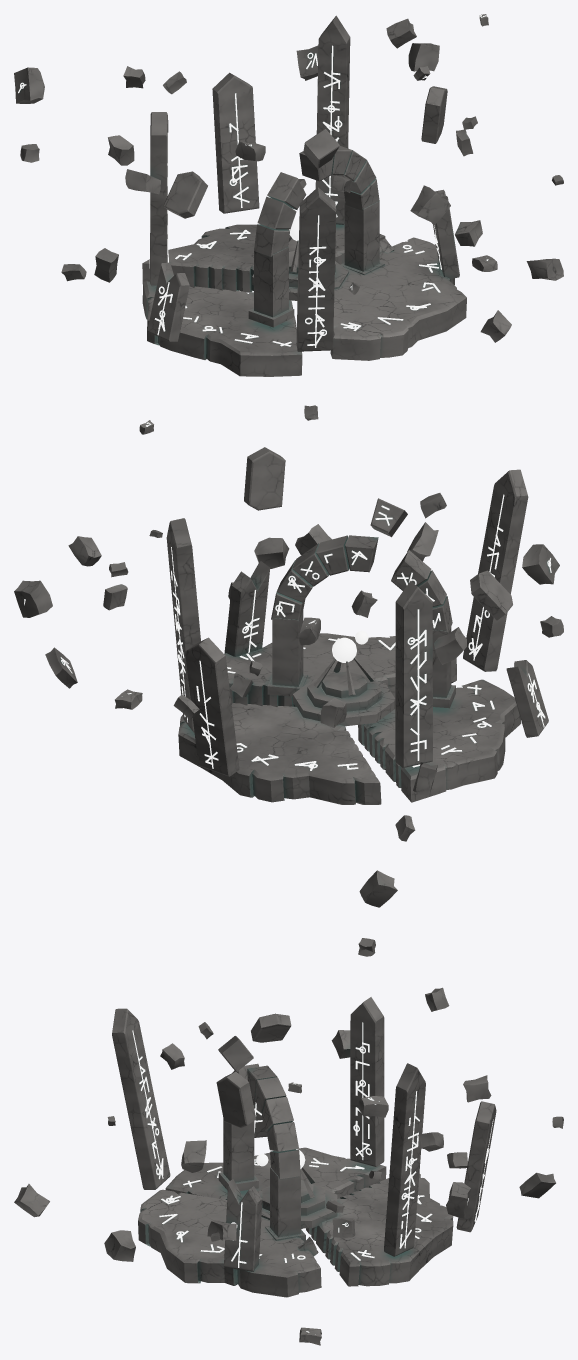
The model's file is ruin.glb.
3 views of the same model, one above another, from view 1: azimuth 30°, elevation 25°; view 2: azimuth 150°, elevation 25°; view 3: azimuth 270°, elevation 25° (orthographic). The views are drawn at different scales.
Parts seen in each view (by area): view 1: Ruin_Platform, Ruin_Monoliths, Ruin_Fragments, Ruin_Arch; view 2: Ruin_Platform, Ruin_Monoliths, Ruin_Fragments, Ruin_Arch; view 3: Ruin_Platform, Ruin_Monoliths, Ruin_Fragments, Ruin_Arch.
Boxes of the visible parts, x1,y1,x2,y2 form: Ruin_Platform: [142, 218, 466, 376]; Ruin_Monoliths: [147, 15, 459, 351]; Ruin_Fragments: [14, 14, 563, 342]; Ruin_Arch: [248, 129, 384, 327]; Ruin_Platform: [178, 633, 521, 804]; Ruin_Monoliths: [166, 447, 548, 776]; Ruin_Fragments: [14, 405, 563, 841]; Ruin_Arch: [267, 498, 455, 708]; Ruin_Platform: [138, 1147, 453, 1297]; Ruin_Monoliths: [112, 997, 496, 1271]; Ruin_Fragments: [14, 870, 563, 1345]; Ruin_Arch: [218, 1036, 305, 1241].
Bounding box in the file's own units: 98.44 × 57.1 × 105.
2 materials, 1 textured.
